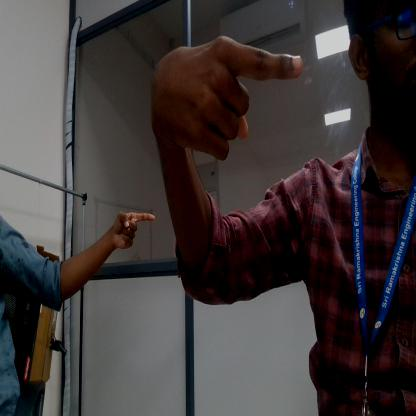Left: (158, 16, 306, 170), (102, 196, 156, 256)
